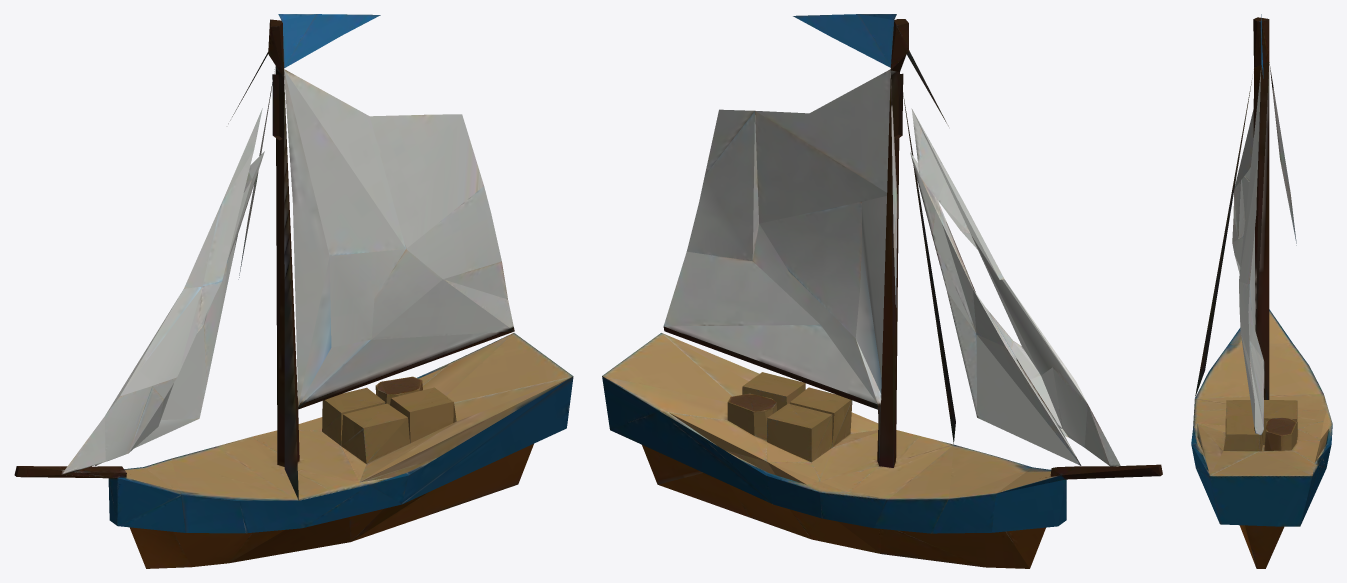
The model's file is meshy.glb.
3 views of the same model, side by side, from view 1: azimuth 30°, elevation 25°; view 2: azimuth 150°, elevation 25°; view 3: azimuth 270°, elevation 25° (orthographic). The views are drawn at different scales.
Bounding box in the file's own units: 1.9 × 1.81 × 0.5093.
1 material, 1 textured.
